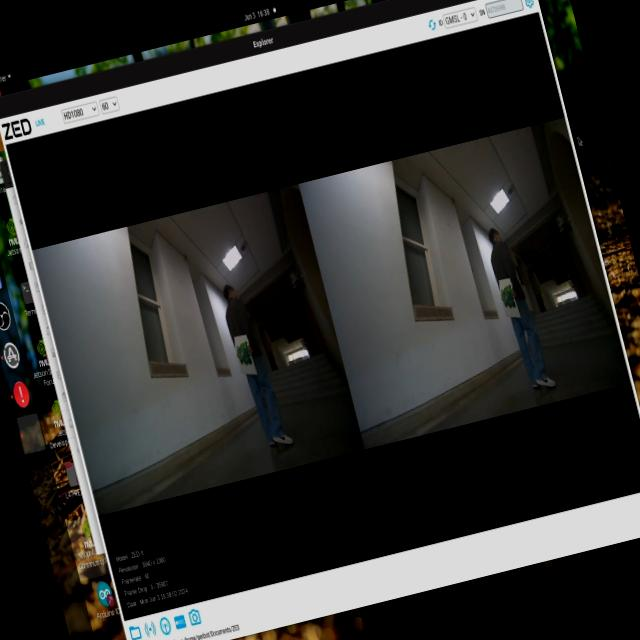green: (226, 332, 262, 384), (494, 276, 524, 321)
